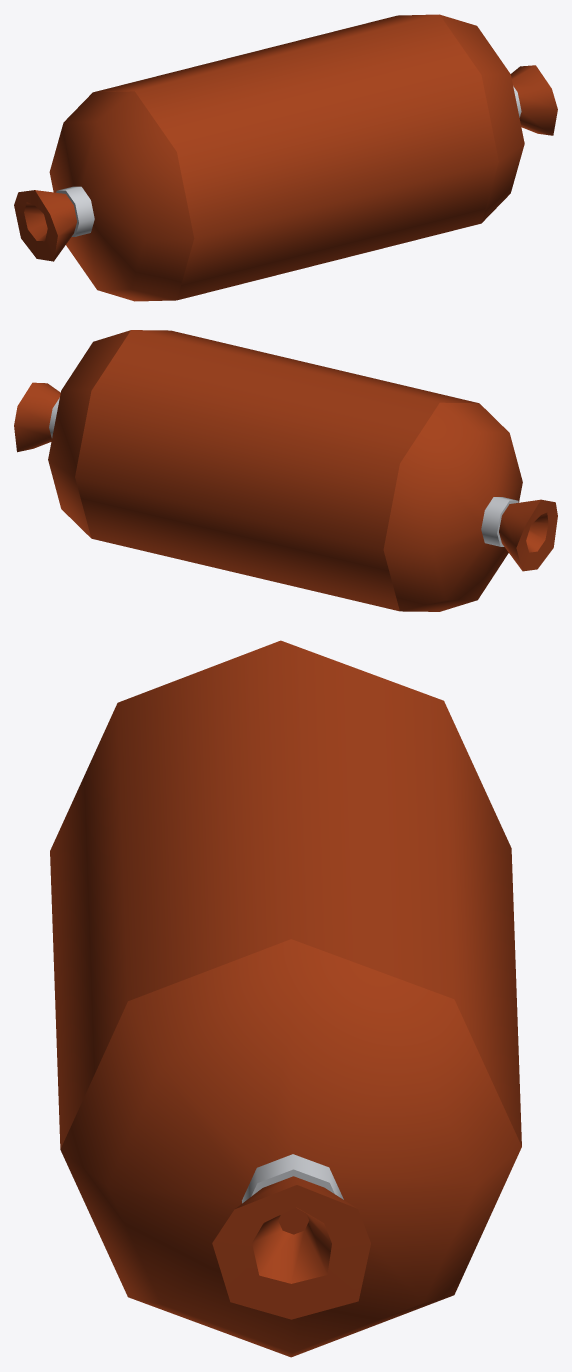
File: Fridgerer_Sausage_02.glb
3 views of the same model, one above another, from view 1: azimuth 30°, elevation 25°; view 2: azimuth 150°, elevation 25°; view 3: azimuth 270°, elevation 25° (orthographic). The views are drawn at different scales.
Visible parts, largest first — view 1: Sausage2; view 2: Sausage2; view 3: Sausage2.
Boxes of the visible parts, box(x1,y1,x2,y2) form: Sausage2: box(14, 14, 557, 301); Sausage2: box(14, 330, 557, 611); Sausage2: box(50, 640, 521, 1357).
Bounding box in the file's own units: 0.1504 × 0.0596 × 0.0609.
Materials: 2 (1 with a texture image).
